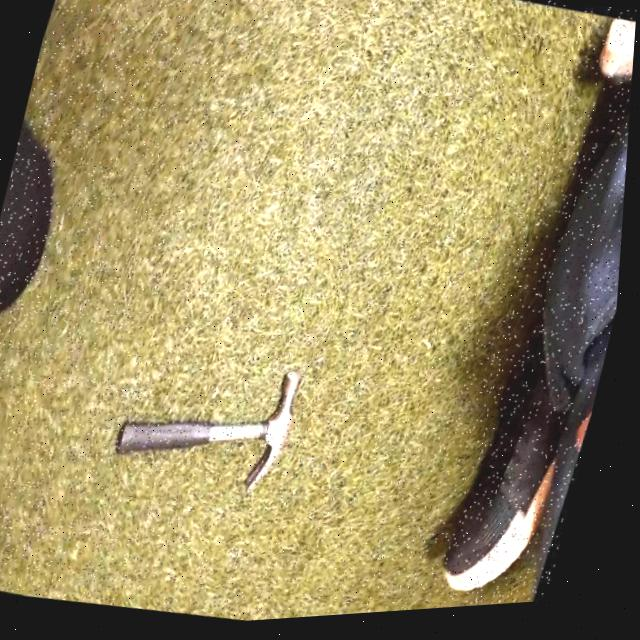hammer: (105, 337, 321, 514)
